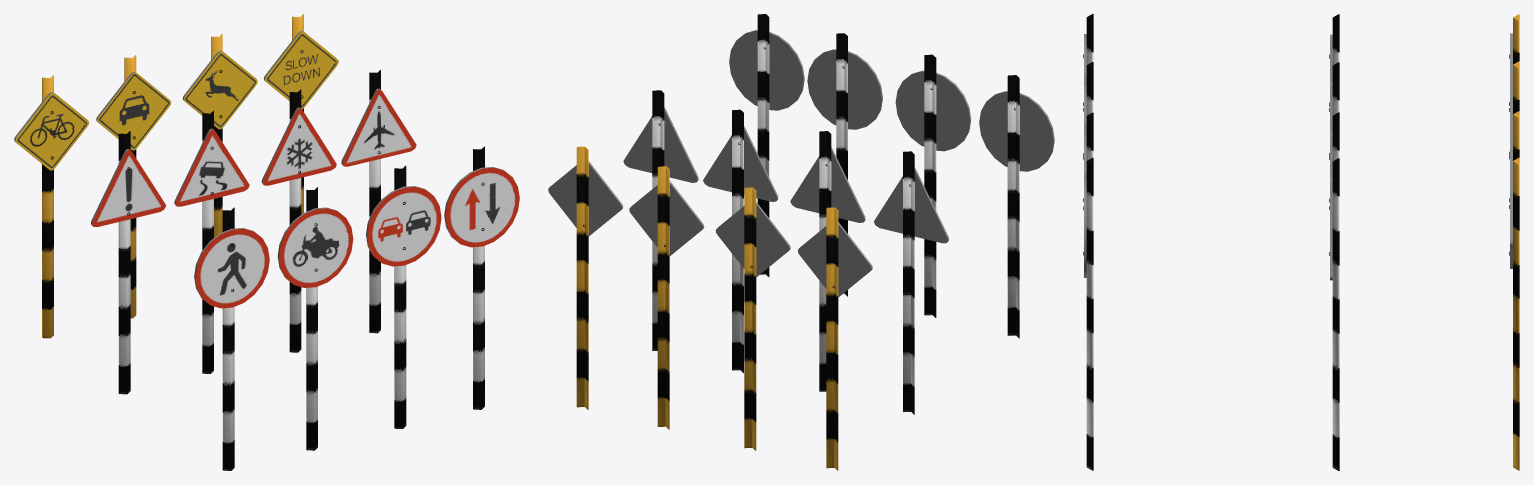
The model's file is 交通标识.fbx.
The picture shows the model from 3 angles, left to right: view 1: azimuth 30°, elevation 25°; view 2: azimuth 150°, elevation 25°; view 3: azimuth 270°, elevation 25°; orthographic projection. The views are drawn at different scales.
Parts seen in each view (by area): view 1: road_sign6, road_sign4, road_sign5, road_sign11, road_sign8, road_sign9, road_sign7, road_sign10, road_sign, road_sign2, road_sign3, road_sign1 (+11 smaller); view 2: road_sign4, road_sign11, road_sign6, road_sign5, road_sign22, road_sign19, road_sign21, road_sign20, road_sign14, road_sign18, road_sign13, road_sign16 (+12 smaller); view 3: road_sign15, road_sign23, road_sign22.
Boxes of the visible parts, left/top/right/bottom form: road_sign6: left=366, top=186, right=441, bottom=266; road_sign4: left=194, top=228, right=269, bottom=308; road_sign5: left=277, top=207, right=353, bottom=287; road_sign11: left=444, top=167, right=519, bottom=247; road_sign8: left=14, top=92, right=89, bottom=170; road_sign9: left=182, top=50, right=257, bottom=129; road_sign7: left=96, top=72, right=171, bottom=150; road_sign10: left=264, top=31, right=338, bottom=109; road_sign: left=174, top=128, right=249, bottom=206; road_sign2: left=341, top=88, right=416, bottom=166; road_sign3: left=91, top=149, right=166, bottom=227; road_sign1: left=261, top=107, right=336, bottom=185; road_sign4: left=979, top=91, right=1054, bottom=171; road_sign11: left=729, top=30, right=804, bottom=110; road_sign6: left=807, top=49, right=882, bottom=129; road_sign5: left=895, top=70, right=971, bottom=151; road_sign22: left=576, top=146, right=588, bottom=409; road_sign19: left=826, top=207, right=838, bottom=470; road_sign21: left=657, top=166, right=669, bottom=429; road_sign20: left=744, top=187, right=756, bottom=450; road_sign14: left=1007, top=75, right=1019, bottom=338; road_sign18: left=903, top=151, right=914, bottom=414; road_sign13: left=924, top=54, right=936, bottom=317; road_sign16: left=732, top=109, right=743, bottom=372; road_sign15: left=1329, top=158, right=1339, bottom=470; road_sign23: left=1083, top=157, right=1093, bottom=470; road_sign22: left=1509, top=157, right=1519, bottom=470.
Size of the model in its own units: 0.0991 by 0.0756 by 0.0976.
